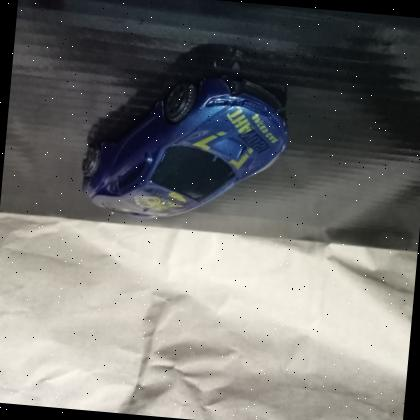Car: (72, 56, 298, 236)
